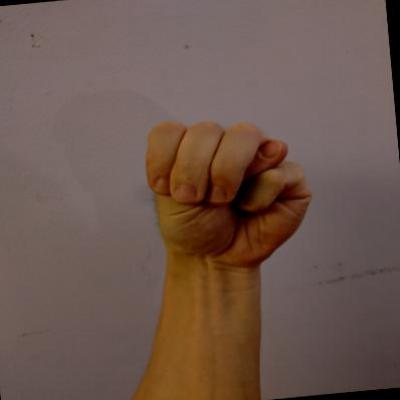hand: (135, 104, 324, 280)
